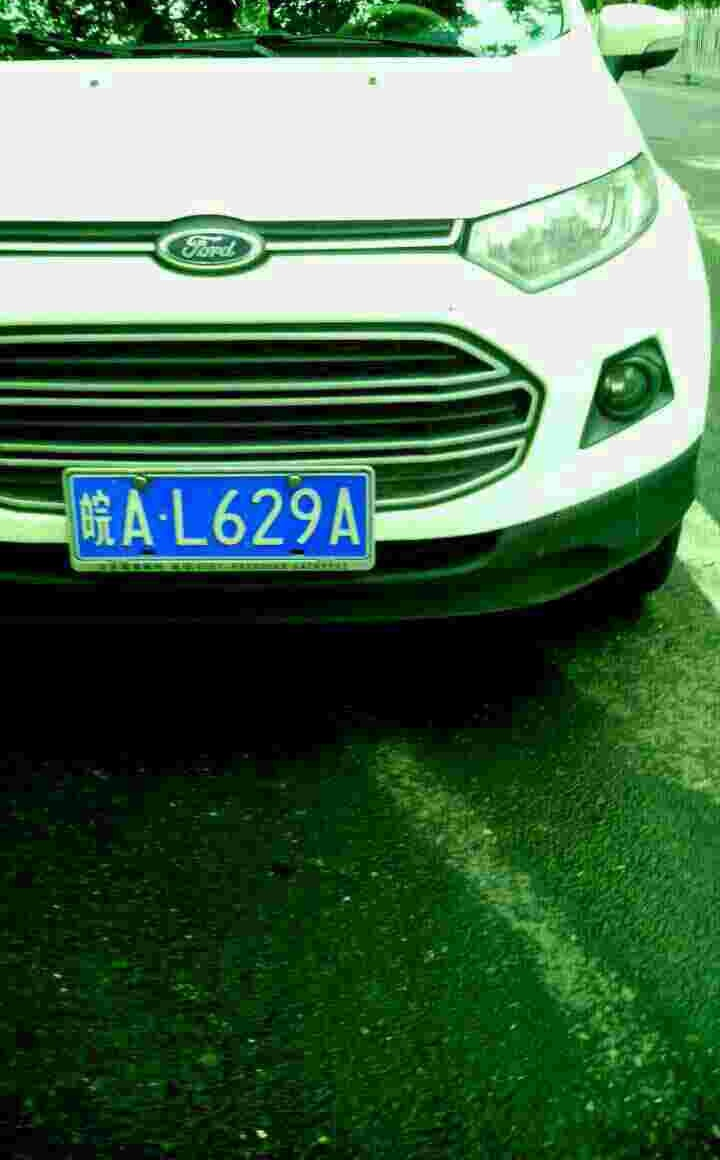plate: (77, 471, 375, 563)
